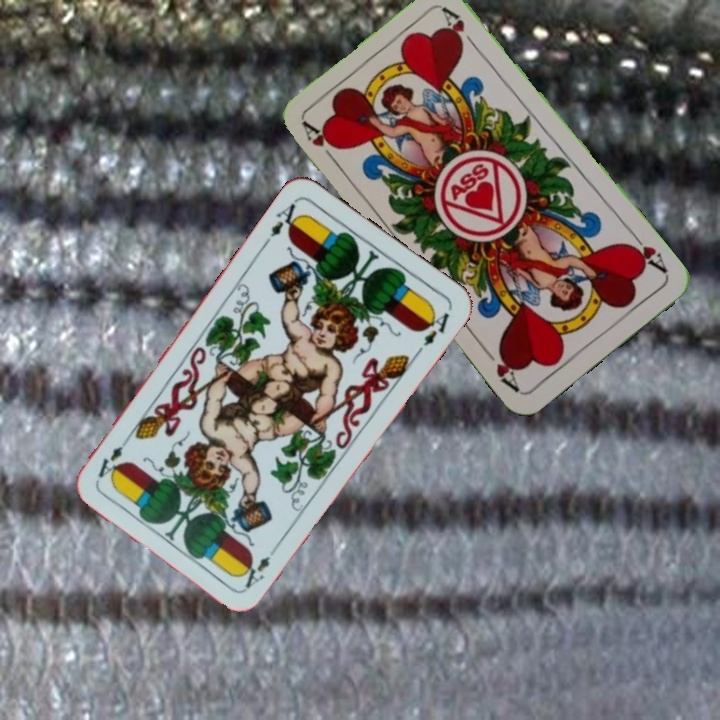EA: (260, 199, 305, 248), (239, 540, 281, 591)
HA: (621, 227, 670, 276), (299, 118, 342, 168)
